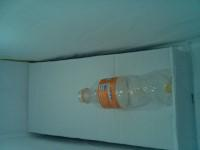bottle: (84, 70, 166, 120)
